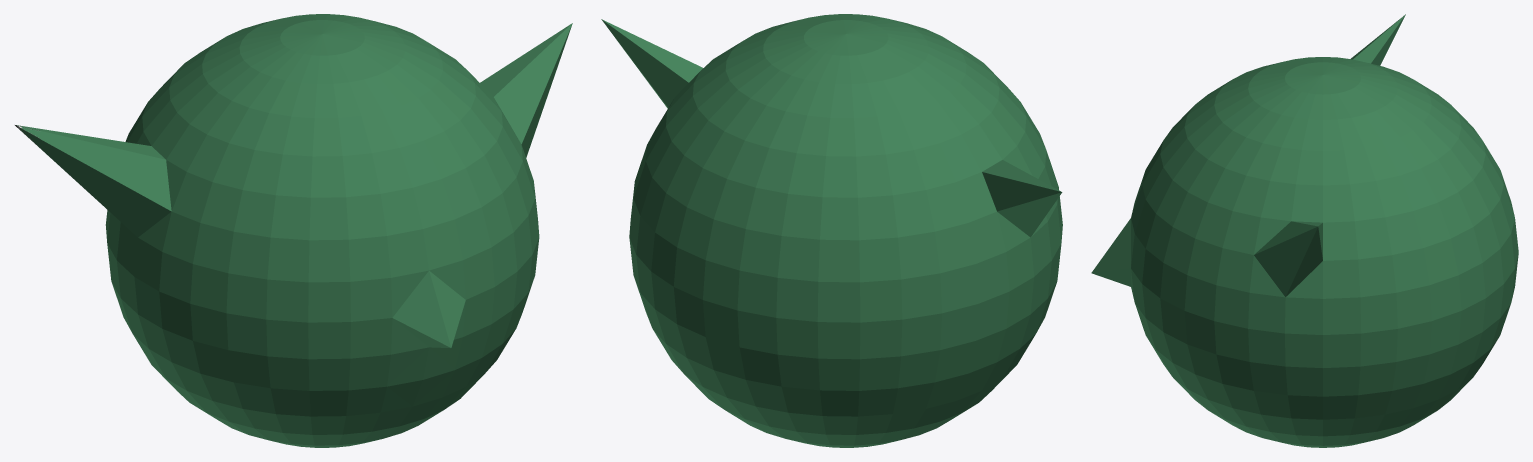
File: player.obj
3 views of the same model, side by side, from view 1: azimuth 30°, elevation 25°; view 2: azimuth 150°, elevation 25°; view 3: azimuth 270°, elevation 25° (orthographic). The views are drawn at different scales.
Visible parts, largest first — view 1: 球; view 2: 球; view 3: 球.
Boxes of the visible parts, x1,y1,x2,y2 form: 球: (15, 14, 572, 447); 球: (601, 14, 1062, 447); 球: (1091, 14, 1518, 447).
Bounding box in the file's own units: 1.32 × 0.9742 × 1.06.
1 material, 1 textured.
